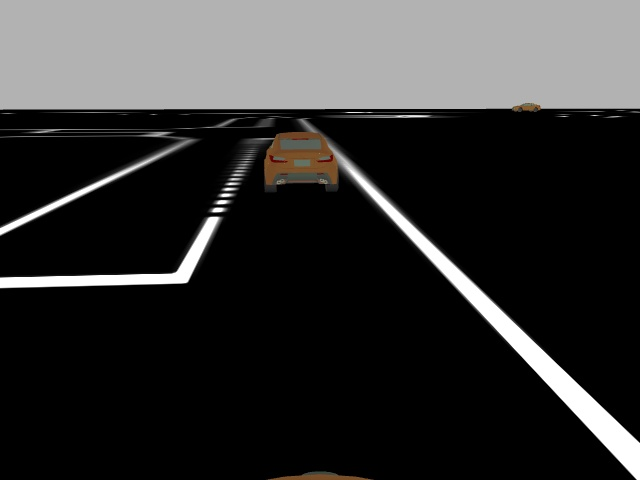obstacle_car: (261, 130, 340, 194)
